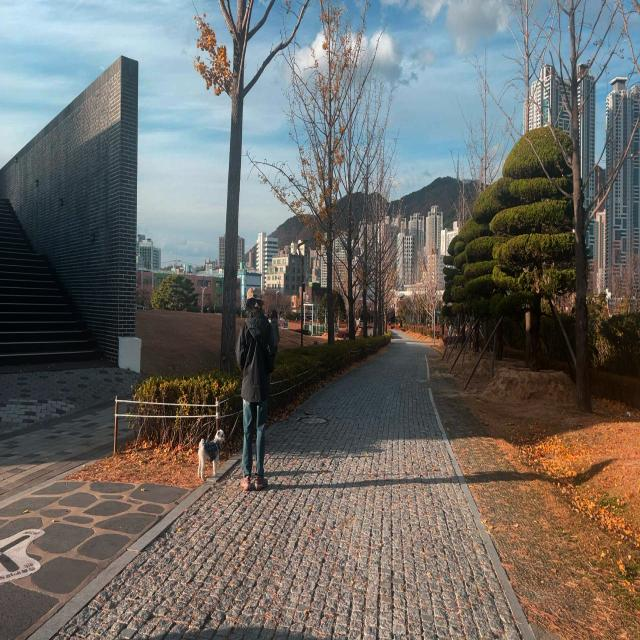Leashed_Dog: (197, 397, 253, 479)
